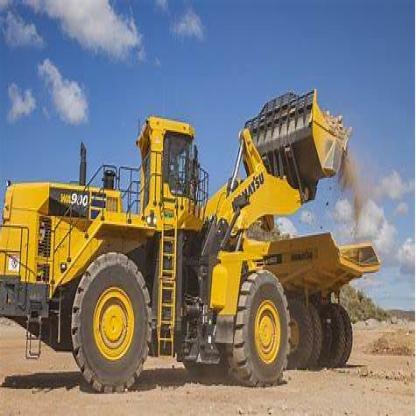bull_dozer/loader/grader: (1, 79, 352, 389)
